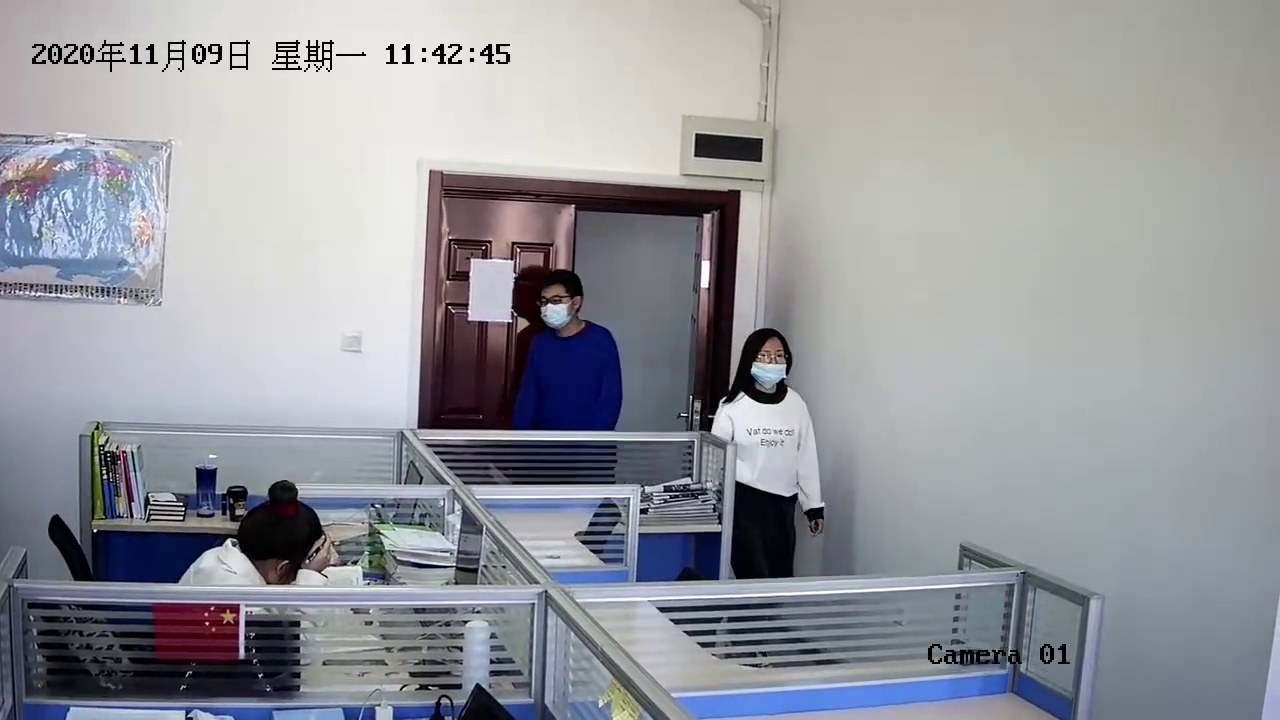mask: (748, 330, 791, 389), (540, 276, 582, 330)
